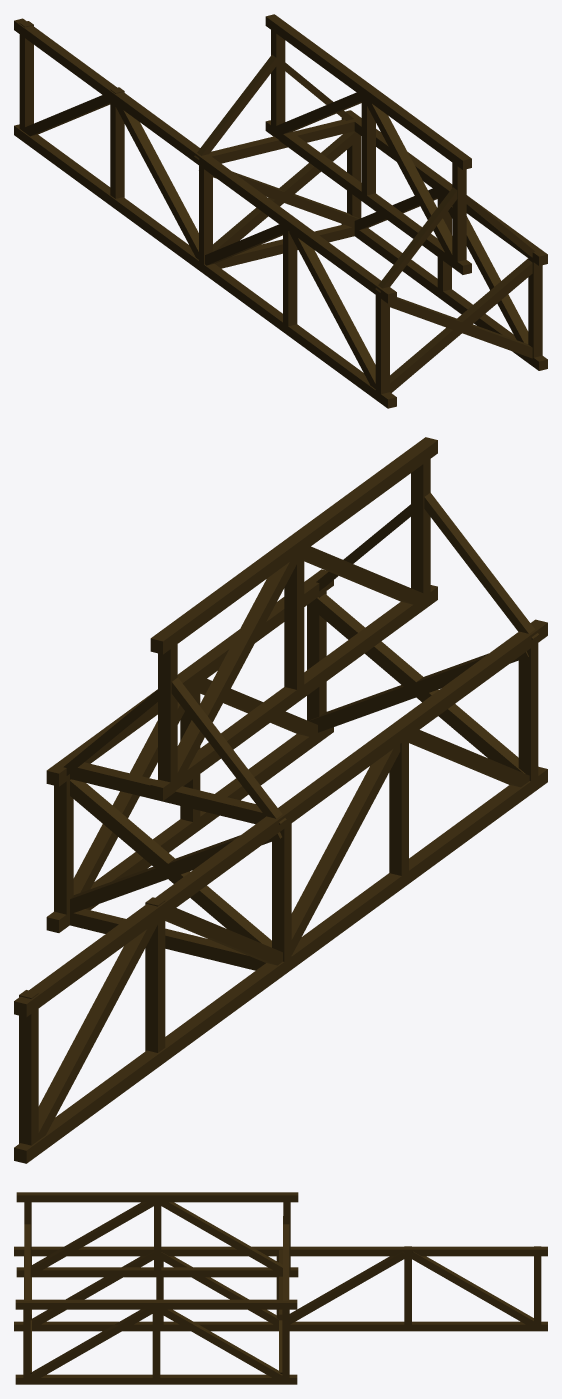
Rendered from klesta 3x4G kucka.FBX.
3 renders of one model, top to bottom at view 1: azimuth 30°, elevation 25°; view 2: azimuth 150°, elevation 25°; view 3: azimuth 270°, elevation 25°, orthographic. The views are drawn at different scales.
Visible parts, largest first — view 1: Object028; view 2: Object028; view 3: Object028.
Boxes of the visible parts, x1=… form: Object028: x1=14, y1=14, x2=547, y2=408; Object028: x1=14, y1=437, x2=547, y2=1163; Object028: x1=14, y1=1192, x2=547, y2=1384.
Size of the model in its own units: 180 by 243 by 720.
